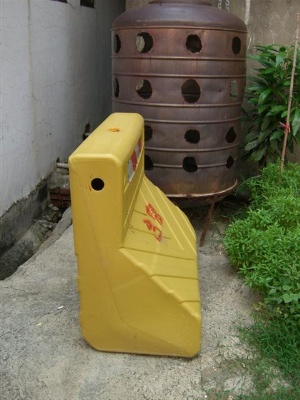bucket: (109, 1, 248, 206)
